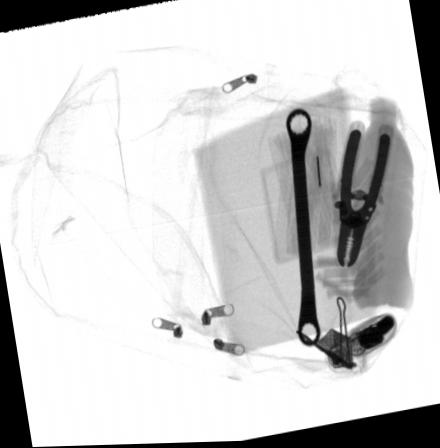Pliers: (334, 120, 398, 271)
Wrench: (285, 110, 323, 348)
